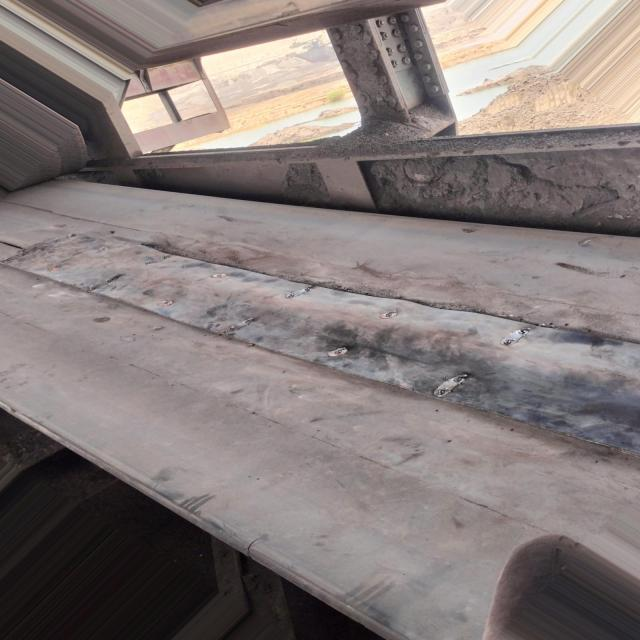patch work: (0, 223, 638, 461)
